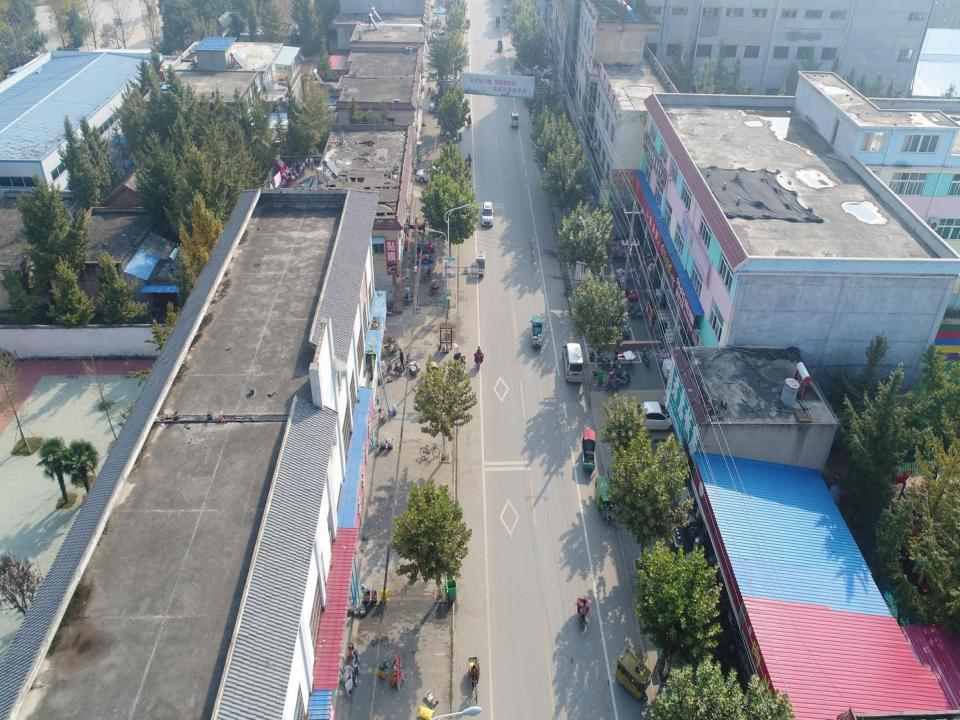car: (633, 402, 674, 434), (416, 167, 450, 182), (428, 100, 456, 114), (481, 202, 494, 228)
van: (562, 341, 585, 385), (501, 4, 509, 18)
